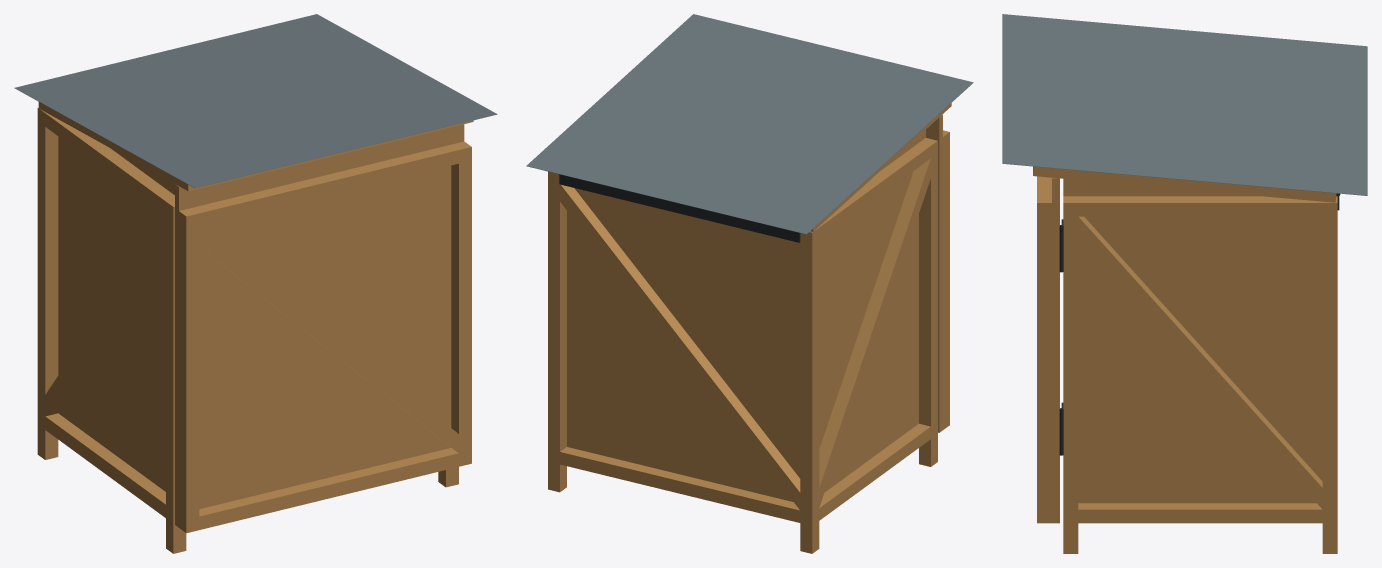
File: dass-closed.glb
The picture shows the model from 3 angles, left to right: view 1: azimuth 30°, elevation 25°; view 2: azimuth 150°, elevation 25°; view 3: azimuth 270°, elevation 25°; orthographic projection. The views are drawn at different scales.
Visible parts, largest first — view 1: door_panel, roof, left_wall, door_left, back_post_left, door_right, door_top, door_bottom, door_brace, left_brace, front_post_left, left_bottom (+3 smaller); view 2: roof, back_wall, left_wall, back_brace, back_post_left, left_brace, back_post_right, front_post_left, back_bottom, left_bottom, roof_hinge_fixed, left_top (+3 smaller); view 3: right_wall, roof, right_brace, front_post_right, back_post_right, right_bottom, right_top, door_right, roof_right, door_panel.
Boxes of the visible parts, x1,y1,x2,y2 form: door_panel: (175, 124, 464, 527); roof: (14, 14, 497, 188); left_wall: (58, 136, 174, 491); door_left: (179, 208, 199, 533); back_post_left: (37, 107, 58, 459); door_right: (451, 141, 471, 466); door_top: (192, 144, 458, 226); door_bottom: (199, 448, 458, 529); door_brace: (199, 227, 458, 452); left_brace: (45, 215, 165, 416); front_post_left: (166, 199, 186, 553); left_bottom: (45, 413, 165, 517); roof: (526, 14, 973, 234); back_wall: (573, 188, 800, 501); left_wall: (819, 130, 925, 492); back_brace: (560, 184, 800, 509); back_post_left: (800, 227, 819, 553); left_brace: (819, 158, 930, 506); back_post_right: (548, 171, 566, 492); front_post_left: (919, 138, 937, 466); back_bottom: (560, 447, 800, 522); left_bottom: (819, 423, 930, 520); roof_hinge_fixed: (559, 174, 800, 242); left_top: (818, 143, 930, 239); right_wall: (1063, 178, 1322, 503); roof: (1002, 14, 1367, 195); right_brace: (1078, 216, 1322, 509); front_post_right: (1063, 196, 1078, 553); back_post_right: (1322, 196, 1337, 553); right_bottom: (1078, 503, 1322, 523); right_top: (1078, 196, 1322, 216); door_right: (1037, 196, 1051, 523); roof_right: (1048, 168, 1321, 201); door_panel: (1052, 177, 1059, 523).
Size of the model in its own units: 1050 by 1293 by 1085.
